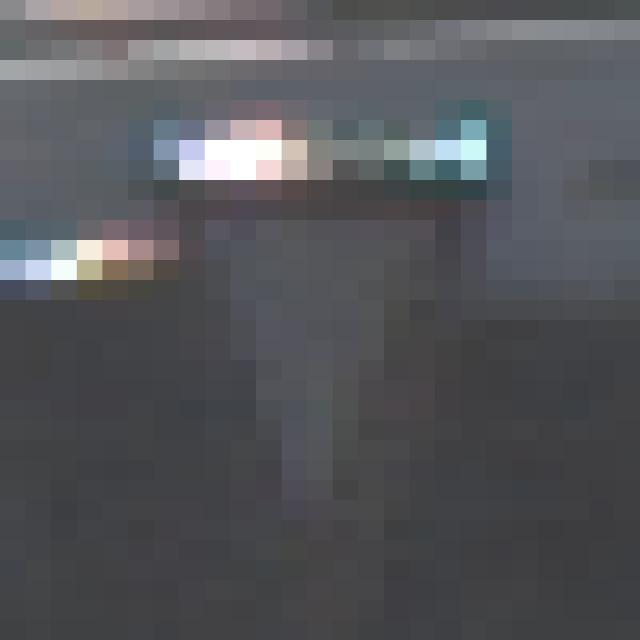Give Way: (129, 121, 513, 541)
